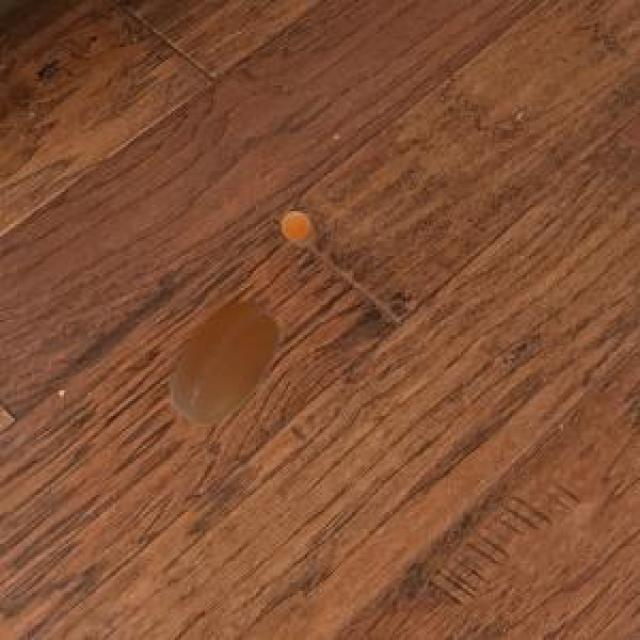Bactidol: (150, 290, 296, 437), (268, 200, 330, 254)
